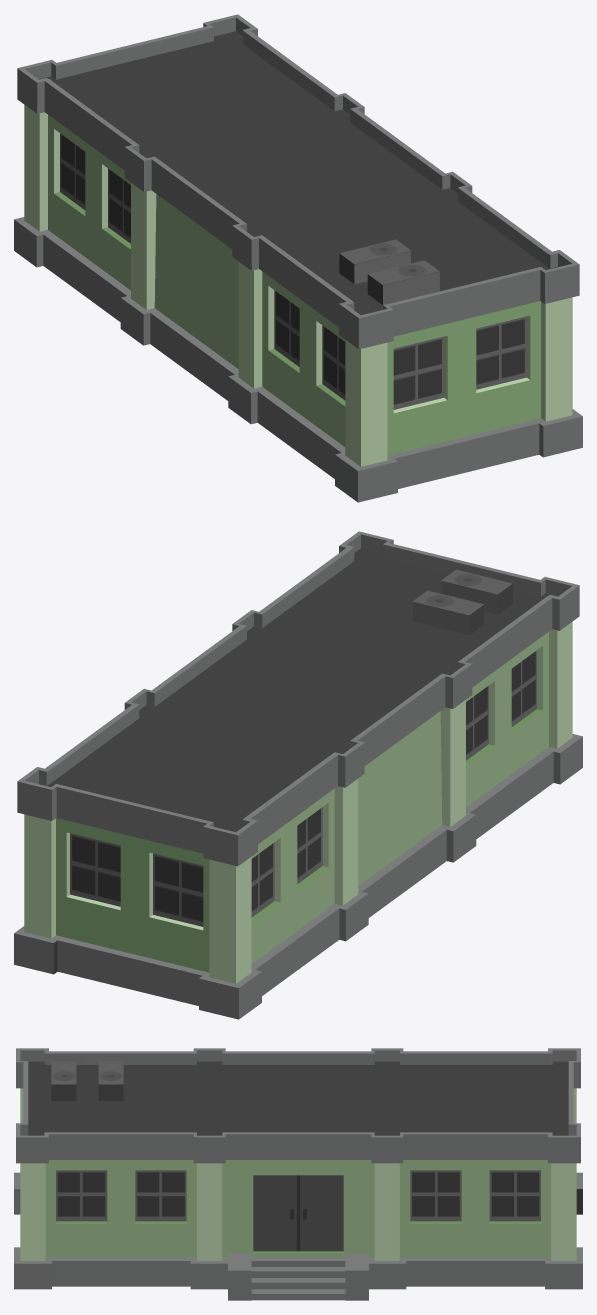
File: factory_medium_mesh.fbx
3 views of the same model, one above another, from view 1: azimuth 30°, elevation 25°; view 2: azimuth 150°, elevation 25°; view 3: azimuth 270°, elevation 25° (orthographic). The views are drawn at different scales.
Visible parts, largest first — view 1: factory_medium_mesh; view 2: factory_medium_mesh; view 3: factory_medium_mesh.
Part boxes in pixels (left/top/right/bottom): factory_medium_mesh: left=14, top=14, right=582, bottom=502; factory_medium_mesh: left=14, top=531, right=582, bottom=1019; factory_medium_mesh: left=14, top=1048, right=582, bottom=1300.
Size of the model in its own units: 10.18 by 7.29 by 24.02.
Materials: 1 (1 with a texture image).
